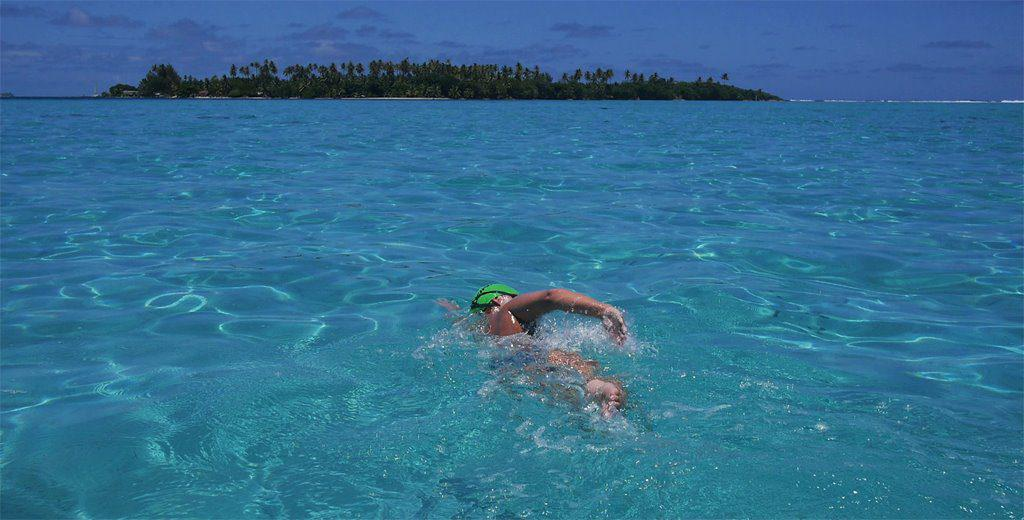swimmer: (436, 270, 644, 428)
